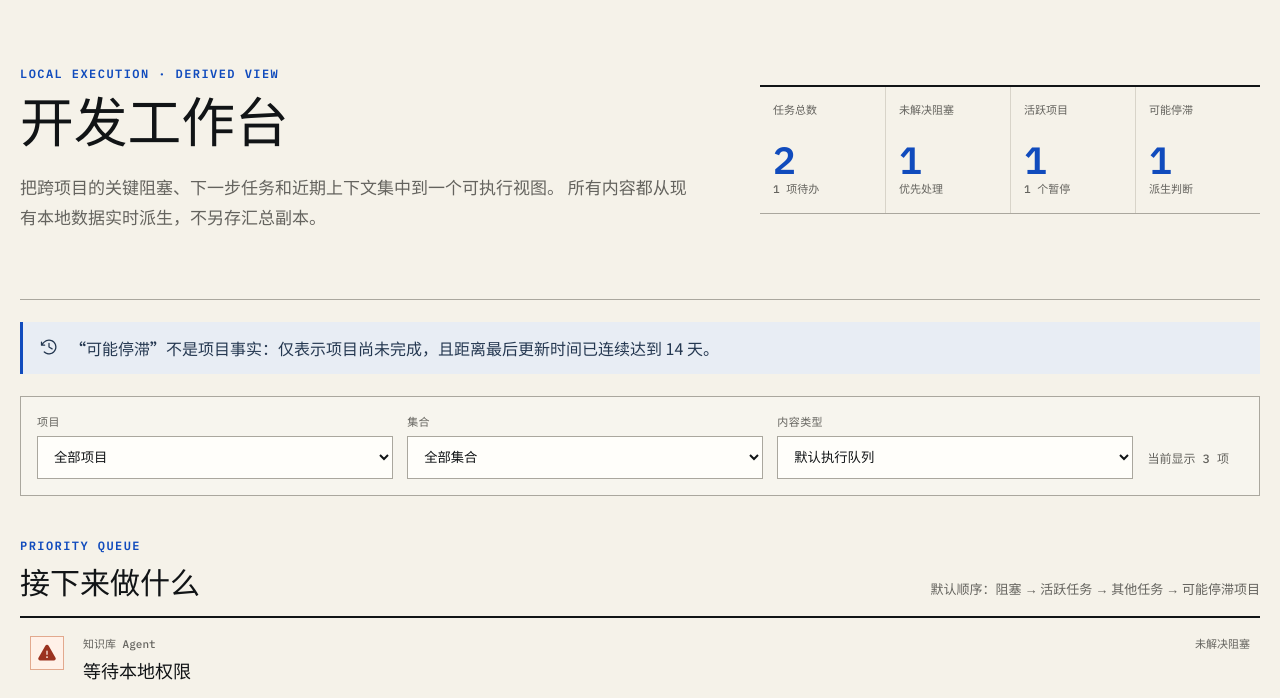
Test: WorkbenchPage › 按项目和类型筛选，任务类型包含已完成项以便取消勾选
Select "全部任务" in the dropdown named "按内容类型筛选" at [955, 458], box [777,436,1133,479]
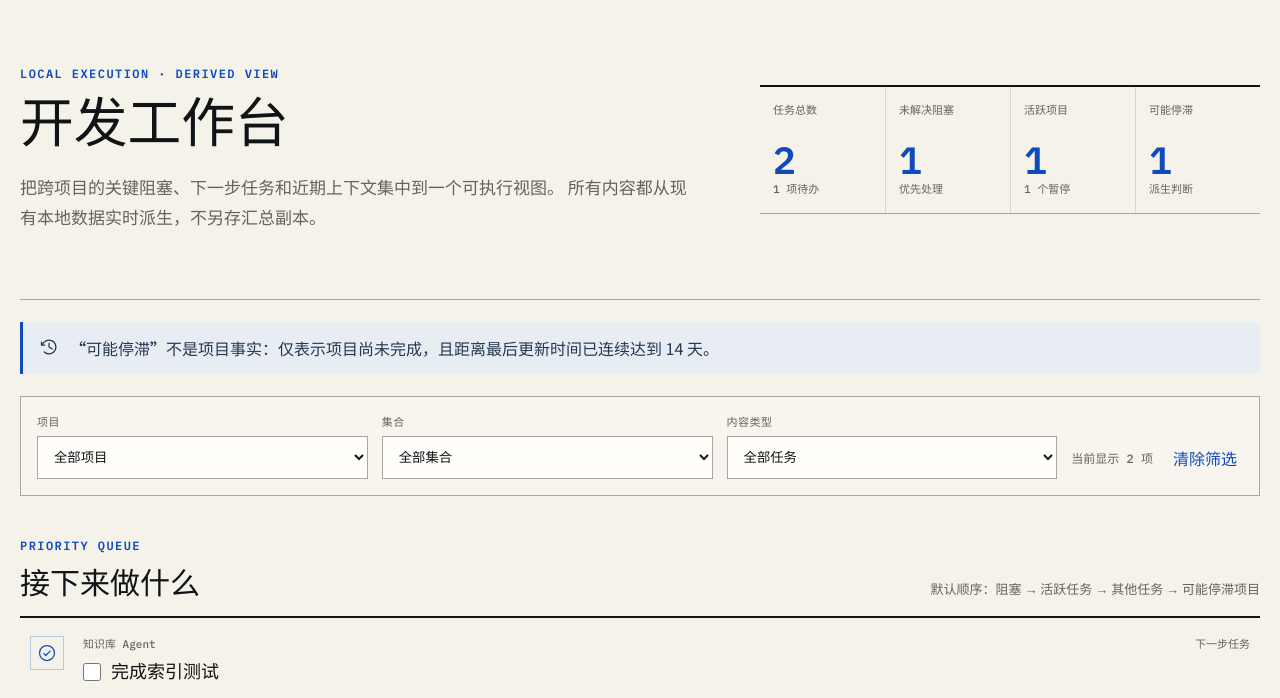
Select "暂停 Agent" in the dropdown named "按项目筛选" at [202, 458], box [37,436,368,479]
(page scrolled)
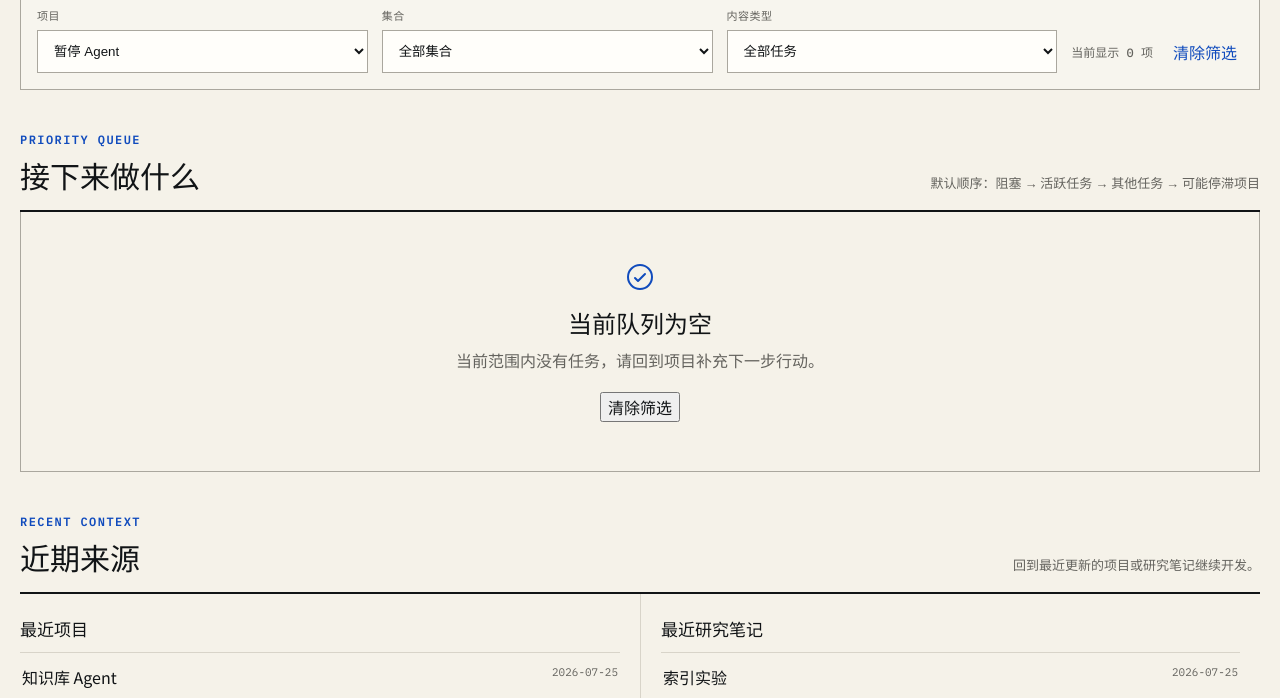
Expected: the heading "当前队列为空" is shown, [568,305,712,340]
Expected: the text "当前范围内没有任务，请回到项目补充下一步行动。" is shown, [456,347,824,374]
